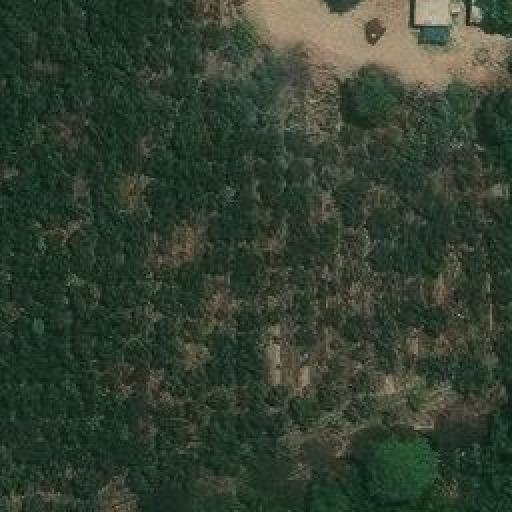manzanas: (407, 0, 510, 45)
